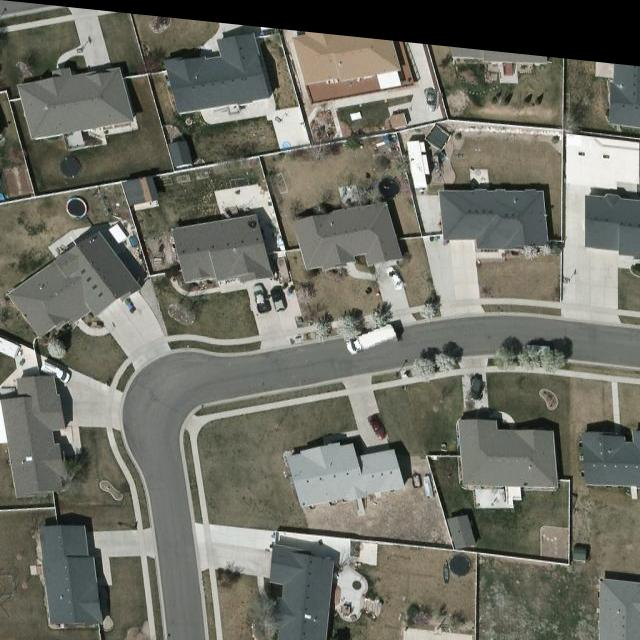vehicle: (343, 313, 399, 352), (250, 279, 272, 309), (42, 362, 70, 383), (368, 406, 388, 434), (384, 256, 405, 282), (268, 280, 288, 306), (422, 78, 442, 102), (468, 366, 485, 392)
